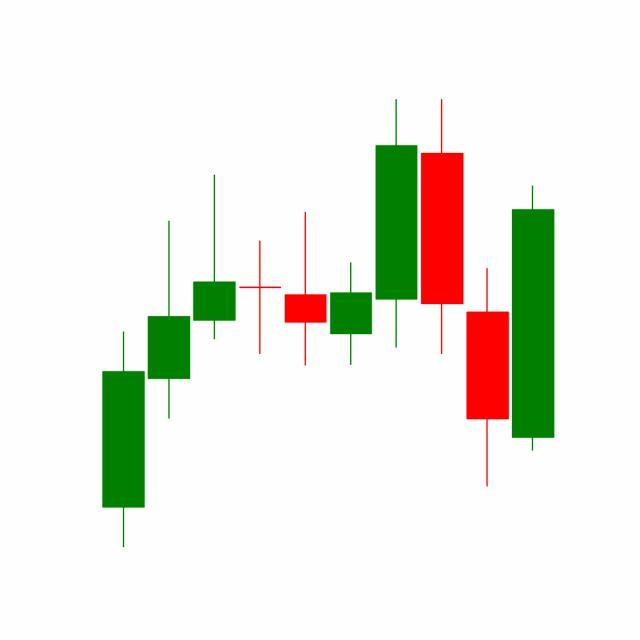Hikkake Pattern: (283, 100, 512, 493)
